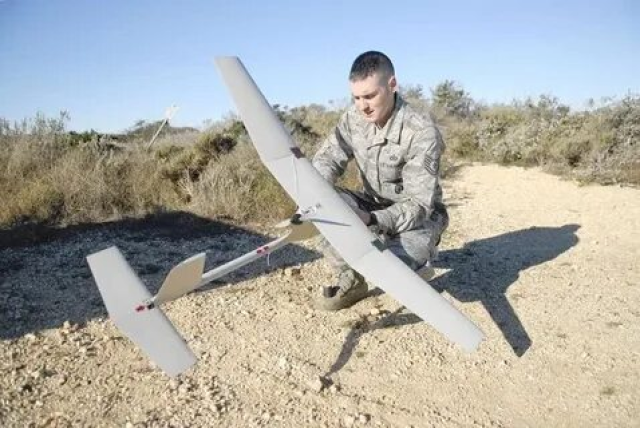military drone: (85, 55, 486, 377)
